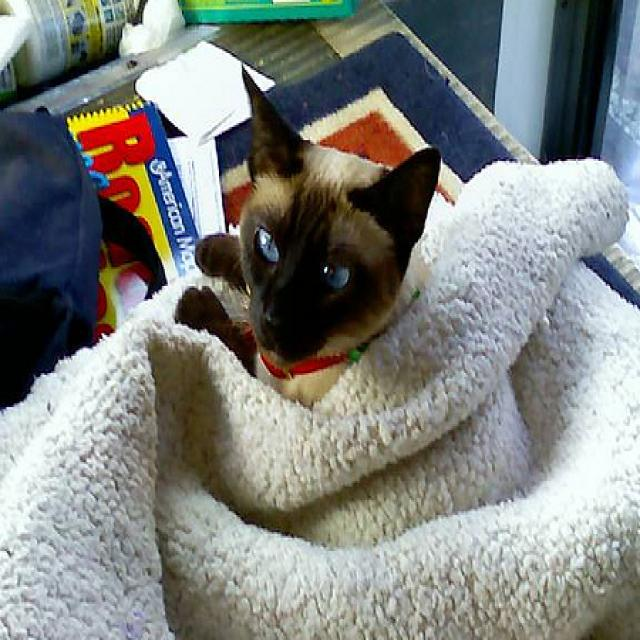Siamese: (172, 59, 446, 416)
